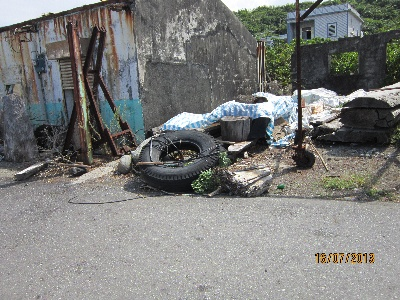plastic_bag: (161, 91, 310, 149)
tire: (138, 128, 222, 192)
